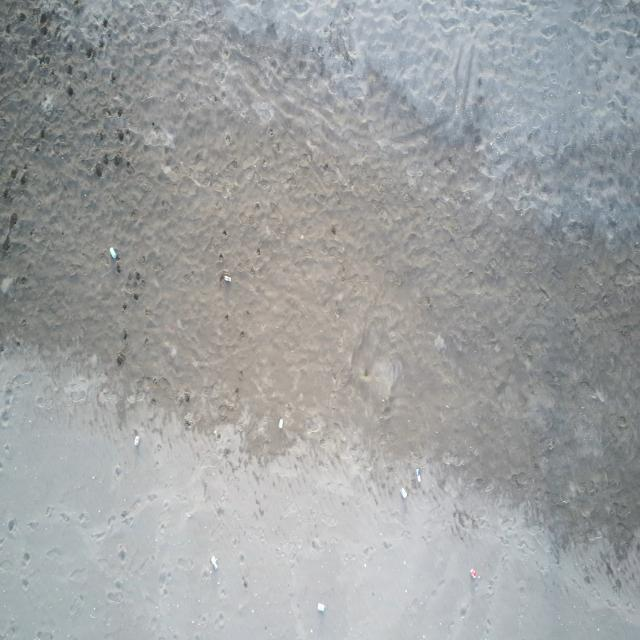tin-and-aluminum-cans: (210, 554, 220, 572), (109, 246, 119, 260), (399, 487, 408, 500), (317, 602, 327, 613), (134, 434, 141, 449), (416, 466, 422, 483), (224, 273, 232, 284), (469, 568, 476, 578), (279, 417, 284, 431)
